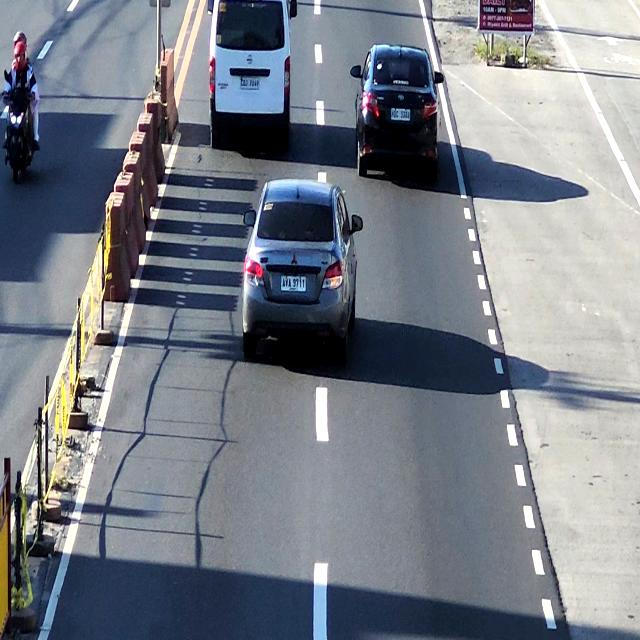Car: (246, 178, 359, 351), (209, 0, 290, 143), (358, 48, 442, 171)
License-Plate: (278, 272, 306, 294), (238, 74, 260, 92), (389, 107, 411, 122)
